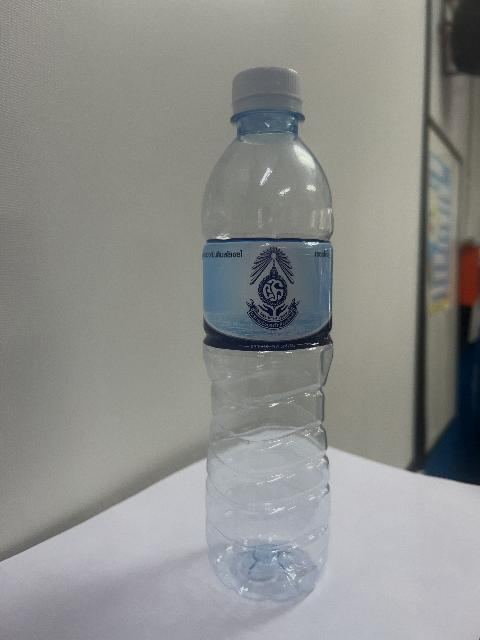bottle: (202, 68, 331, 601)
